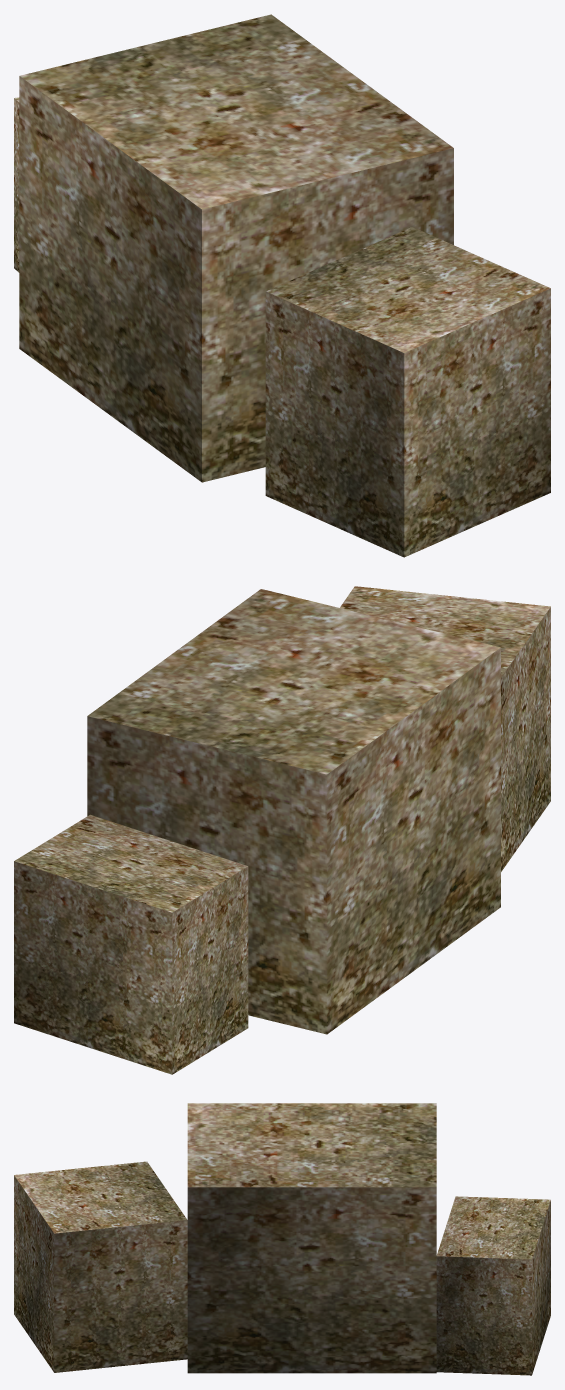
The model's file is Gate_Blocks.glb.
The picture shows the model from 3 angles, top to bottom: view 1: azimuth 30°, elevation 25°; view 2: azimuth 150°, elevation 25°; view 3: azimuth 270°, elevation 25°; orthographic projection. The views are drawn at different scales.
Parts seen in each view (by area): view 1: GATE_BLOCKS; view 2: GATE_BLOCKS; view 3: GATE_BLOCKS.
Part boxes in pixels (x1=…): GATE_BLOCKS: x1=14, y1=14, x2=550, y2=557; GATE_BLOCKS: x1=14, y1=586, x2=550, y2=1074; GATE_BLOCKS: x1=14, y1=1103, x2=550, y2=1375.
Size of the model in its own units: 0.751 by 0.757 by 1.98.
Materials: 1 (1 with a texture image).
